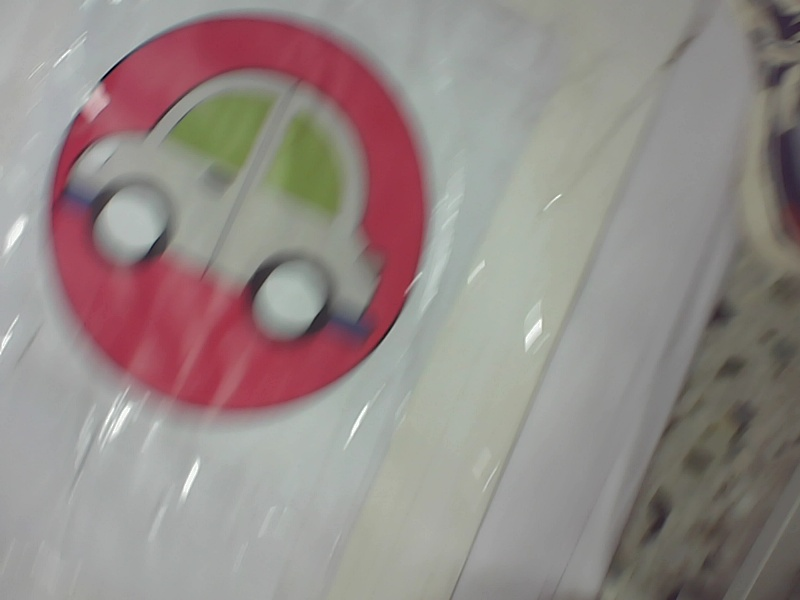areaC: (36, 9, 433, 418)
